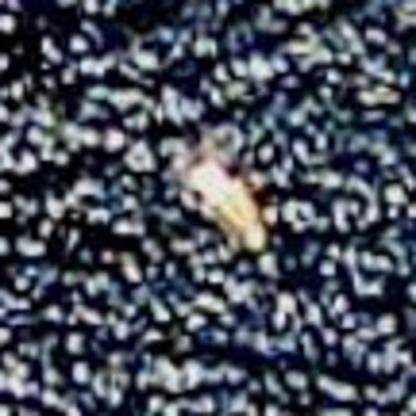ship: (168, 145, 279, 260)
